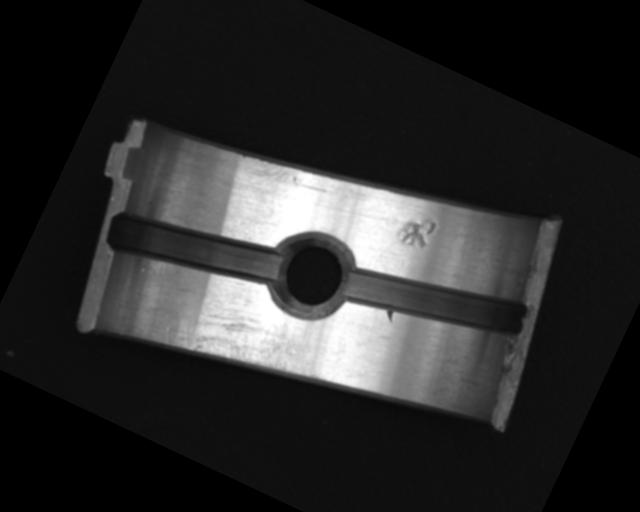bruise: (393, 207, 440, 254), (381, 307, 398, 325)
gap: (339, 233, 533, 373), (101, 180, 288, 316)
hole: (257, 220, 365, 330)
scratch: (158, 274, 333, 411)
